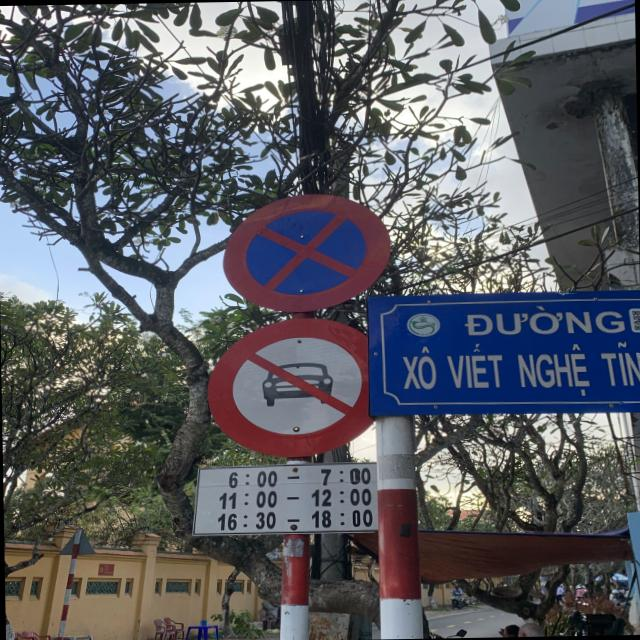Cam_Dung_Va_Dau_Xe: (220, 192, 390, 314)
Cam_O_To: (202, 314, 380, 456)
